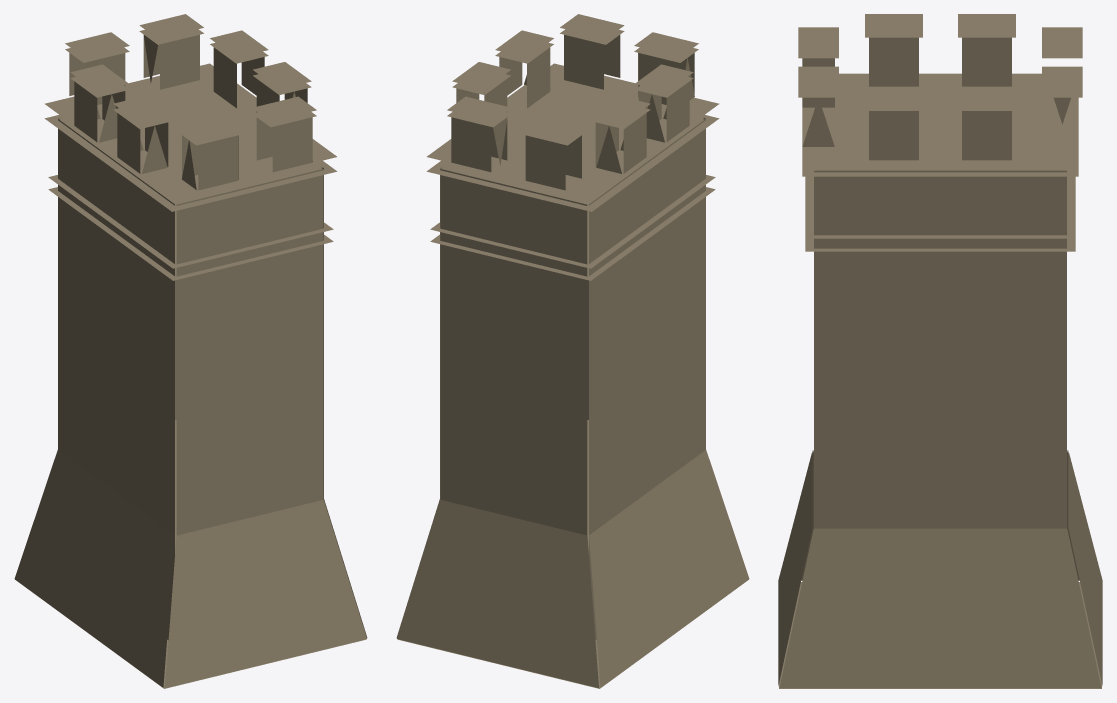
File: castle-wall-end-lod1.glb
3 renders of one model, left to right at view 1: azimuth 30°, elevation 25°; view 2: azimuth 150°, elevation 25°; view 3: azimuth 270°, elevation 25°, orthographic. The views are drawn at different scales.
Visible parts, largest first — view 1: castle-wall-end; view 2: castle-wall-end; view 3: castle-wall-end.
Boxes of the visible parts, box(x1,y1,x2,y2) form: castle-wall-end: box(14, 14, 367, 688); castle-wall-end: box(396, 14, 749, 688); castle-wall-end: box(778, 14, 1102, 688).
Size of the model in its own units: 4.39 by 10.95 by 5.59.
